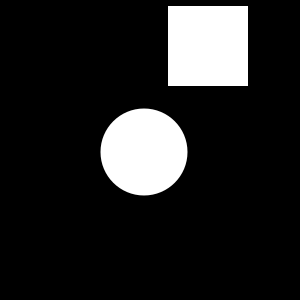circle: (168, 6, 248, 86)
rectangle: (100, 109, 188, 196)
